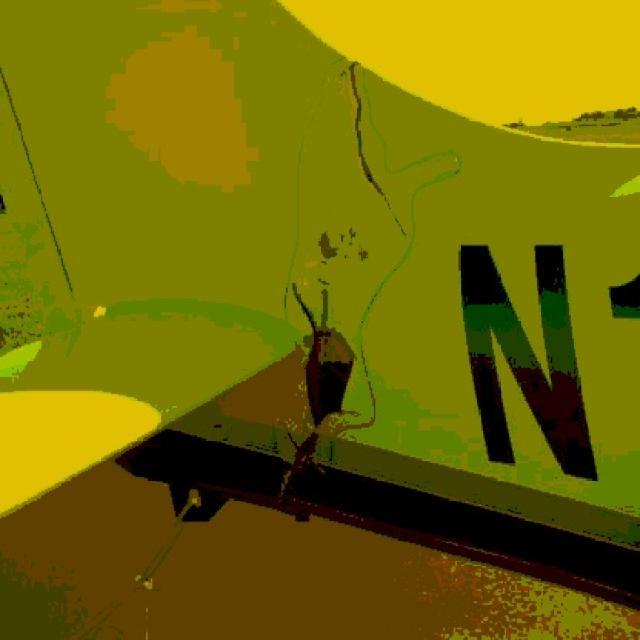crack: (344, 78, 407, 224)
